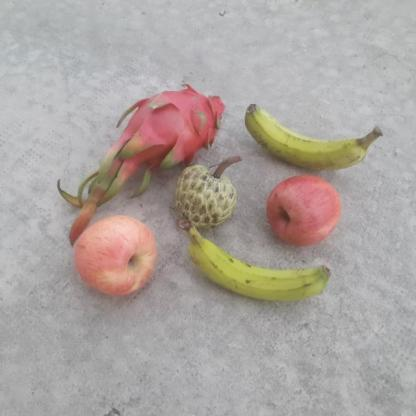annona: (174, 163, 235, 228)
apple: (72, 215, 154, 293), (264, 175, 342, 244)
banana: (189, 238, 334, 302), (240, 103, 365, 177)
pitaya: (110, 80, 219, 164)
